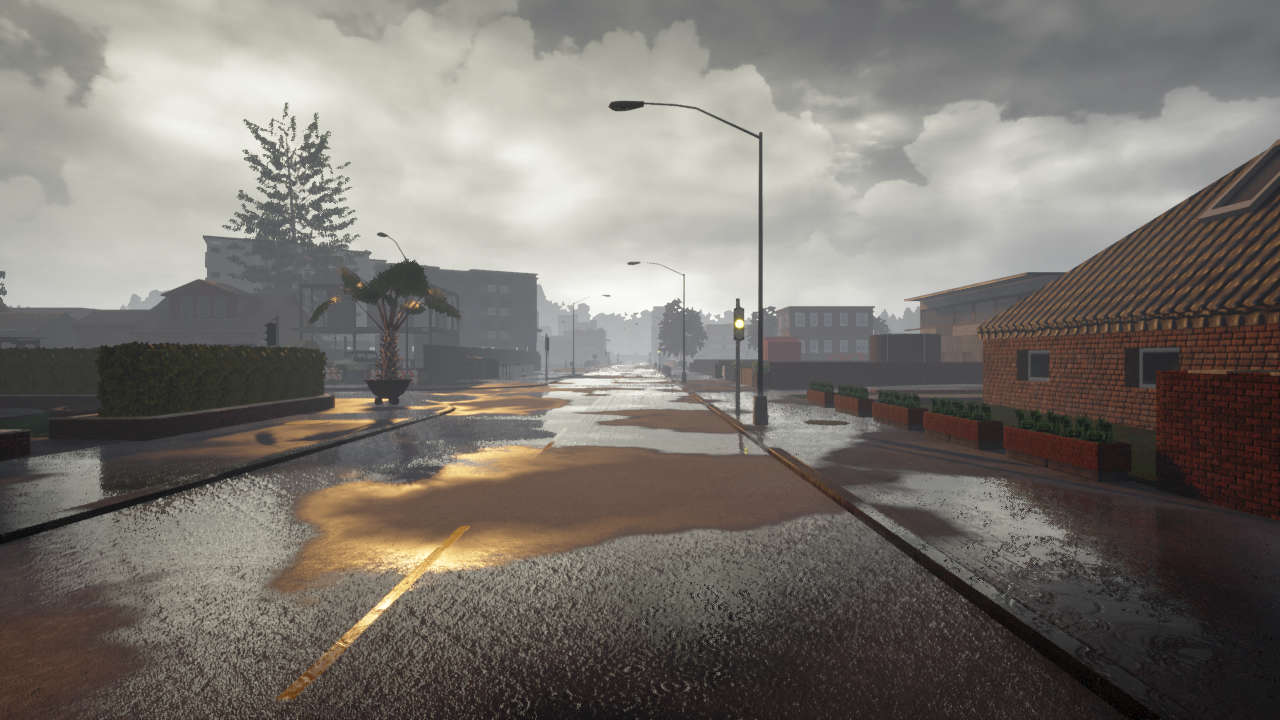yellow: (734, 307, 745, 341)
